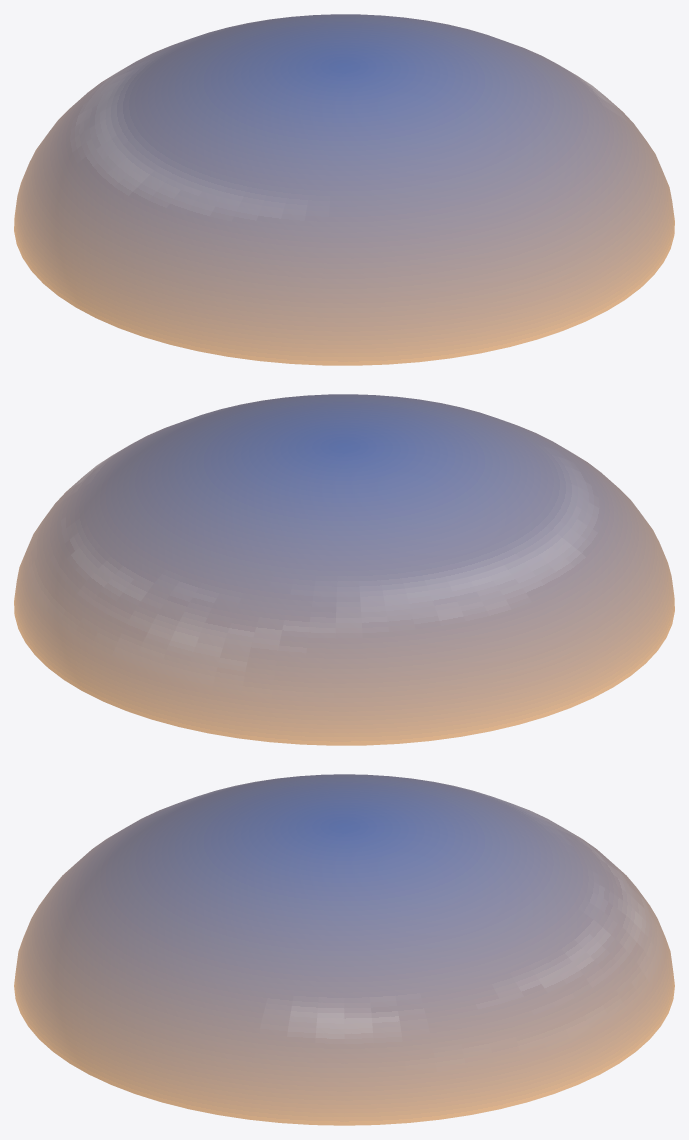
Rendered from env-sky-ecology-dao.glb.
The picture shows the model from 3 angles, top to bottom: view 1: azimuth 30°, elevation 25°; view 2: azimuth 150°, elevation 25°; view 3: azimuth 270°, elevation 25°; orthographic projection.
Parts seen in each view (by area): view 1: Sky; view 2: Sky; view 3: Sky.
Part boxes in pixels (left/top/right/bottom): Sky: left=14, top=14, right=674, bottom=365; Sky: left=14, top=394, right=674, bottom=745; Sky: left=14, top=774, right=674, bottom=1125.
Bounding box in the file's own units: 1200 × 320 × 1200.
Materials: 2 (1 with a texture image).
